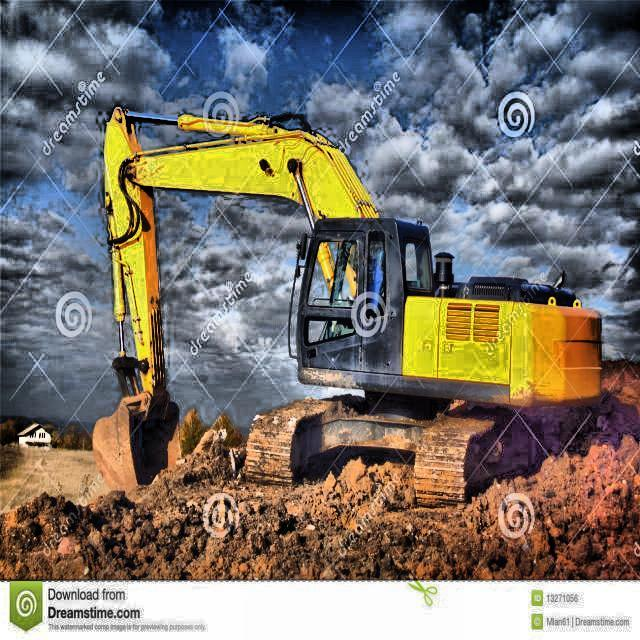excavator: (89, 104, 626, 520)
